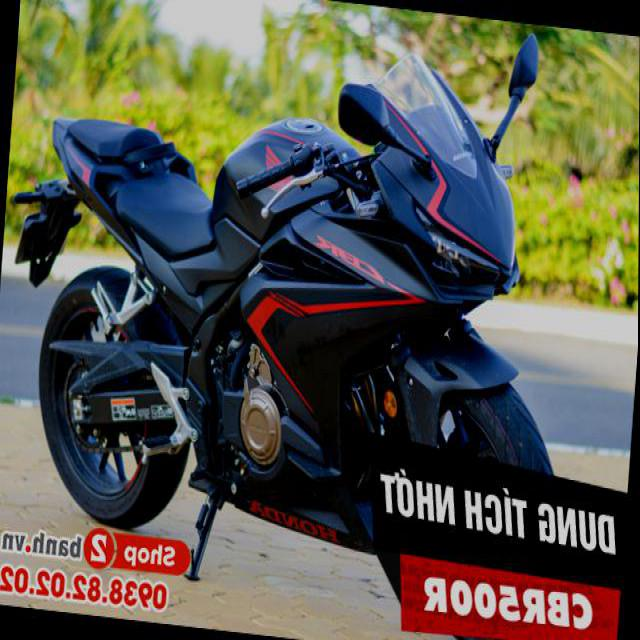CBR500R: (0, 0, 591, 639)
